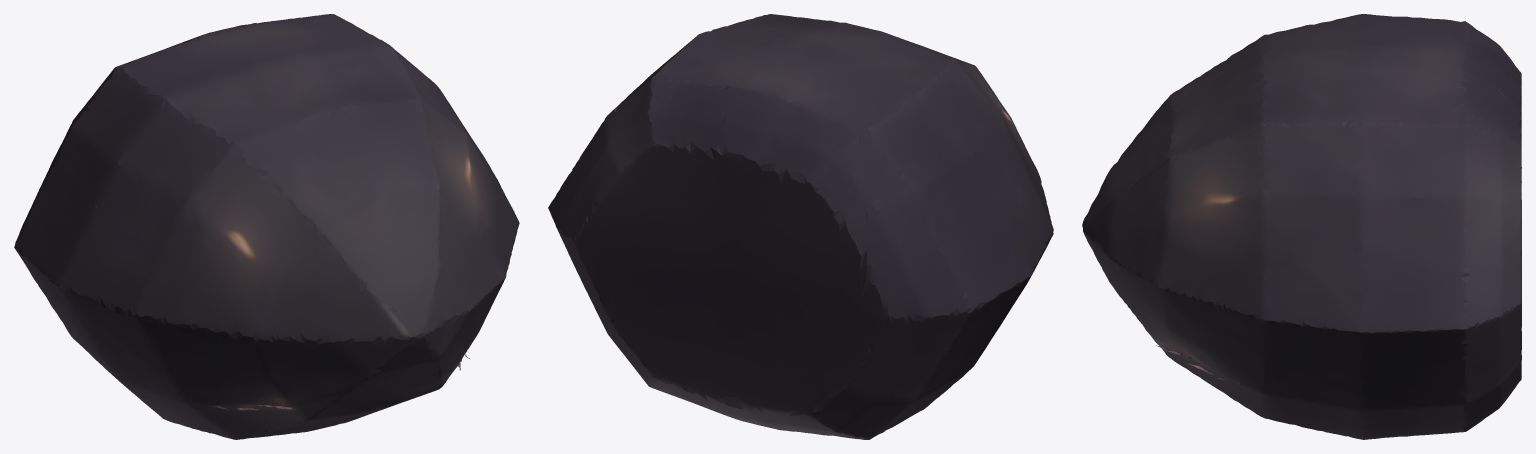
File: Node_Tungsten.glb
The picture shows the model from 3 angles, left to right: view 1: azimuth 30°, elevation 25°; view 2: azimuth 150°, elevation 25°; view 3: azimuth 270°, elevation 25°; orthographic projection.
Visible parts, largest first — view 1: Node_Tungsten; view 2: Node_Tungsten; view 3: Node_Tungsten.
Boxes of the visible parts, x1,y1,x2,y2 form: Node_Tungsten: [14, 14, 519, 439]; Node_Tungsten: [548, 14, 1053, 439]; Node_Tungsten: [1082, 14, 1521, 439].
Bounding box in the file's own units: 0.7735 × 0.58 × 0.6771.
1 material, 1 textured.
